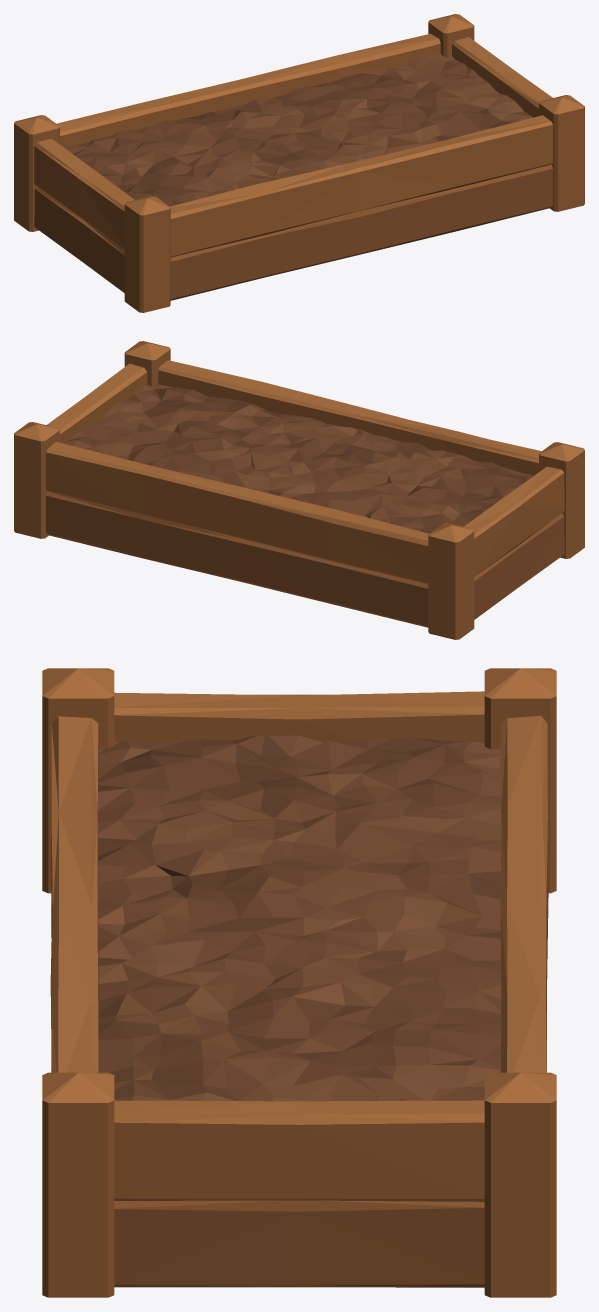
The model's file is FMS_Bed_Raised_2x1.fbx.
3 renders of one model, top to bottom at view 1: azimuth 30°, elevation 25°; view 2: azimuth 150°, elevation 25°; view 3: azimuth 270°, elevation 25°, orthographic. The views are drawn at different scales.
Parts seen in each view (by area): view 1: FMS_Bed_Raised_2x1; view 2: FMS_Bed_Raised_2x1; view 3: FMS_Bed_Raised_2x1.
Part boxes in pixels (x1,y1,x2,y2): FMS_Bed_Raised_2x1: (14, 14, 584, 312); FMS_Bed_Raised_2x1: (14, 341, 584, 639); FMS_Bed_Raised_2x1: (42, 668, 556, 1297).
Bounding box in the file's own units: 2 × 0.45 × 1.
